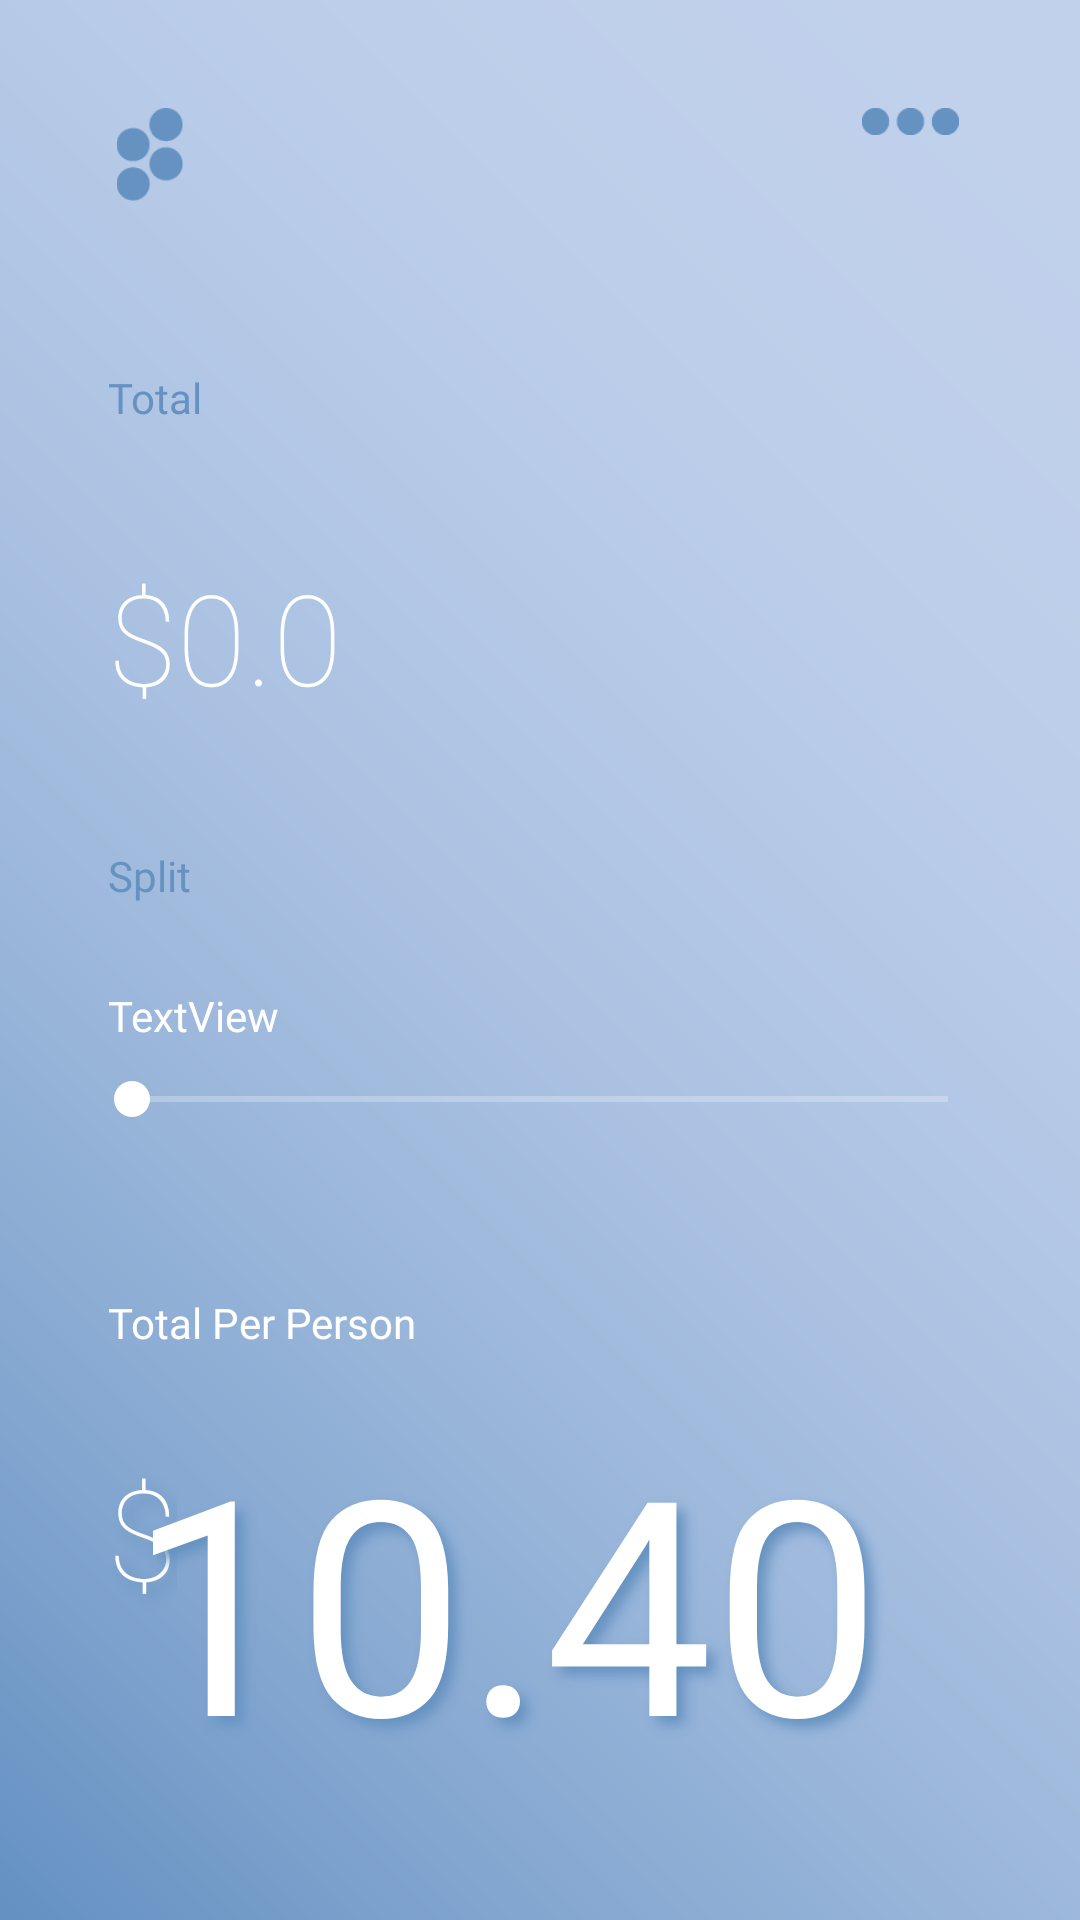

Icons on this 1080px x 1920px Android screen, each with its box as (x1, y1, x2, y2):
dots: (117, 108, 183, 201), (862, 108, 959, 135)
